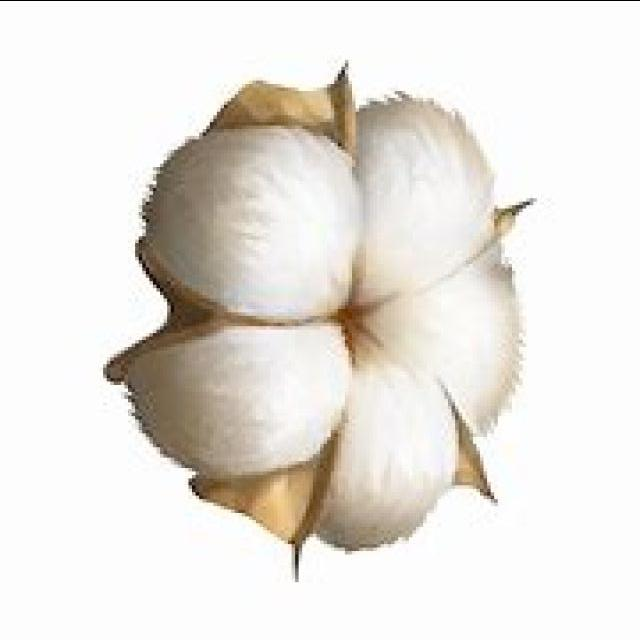Matured Cotton Boll: (103, 89, 532, 565)
